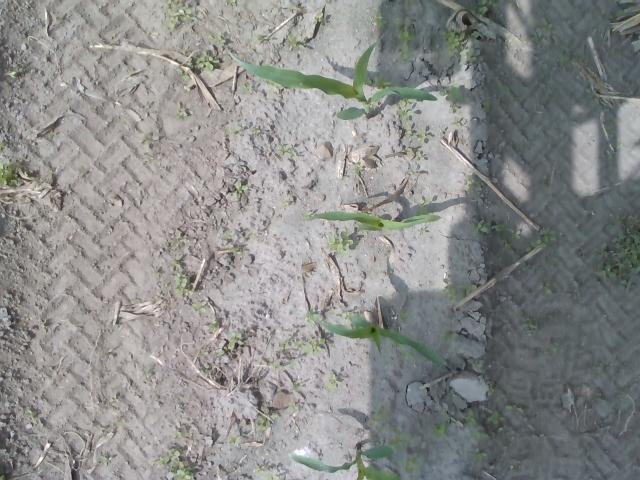Maize: (222, 35, 439, 123), (307, 305, 447, 370), (306, 204, 441, 235), (289, 443, 401, 480)
Weeds: (590, 208, 640, 290), (271, 334, 327, 369), (177, 47, 221, 80), (463, 406, 508, 438), (157, 445, 194, 480), (471, 222, 520, 248), (527, 227, 560, 264), (162, 0, 194, 32), (393, 19, 418, 59), (0, 142, 20, 186), (327, 232, 355, 256), (441, 27, 464, 56), (444, 282, 479, 298), (254, 413, 280, 433), (371, 405, 392, 428), (445, 83, 468, 102), (254, 464, 279, 480), (402, 128, 430, 142), (174, 270, 188, 298), (398, 96, 414, 120), (518, 315, 540, 332), (388, 432, 410, 448), (274, 142, 296, 158), (440, 328, 460, 345), (227, 124, 261, 134), (475, 0, 497, 15), (288, 32, 306, 50), (472, 447, 490, 463), (504, 403, 530, 414), (370, 14, 387, 30), (325, 374, 339, 392), (405, 458, 422, 472), (192, 301, 209, 315), (228, 330, 244, 344), (235, 180, 248, 196), (240, 81, 253, 94), (302, 306, 314, 320), (432, 422, 442, 438), (542, 284, 554, 297), (2, 71, 18, 80), (469, 358, 482, 368), (398, 311, 410, 321), (175, 430, 187, 440), (488, 385, 498, 397), (314, 12, 324, 24), (24, 408, 34, 418), (230, 249, 242, 257), (228, 0, 238, 8), (176, 108, 184, 118), (218, 36, 225, 46)
